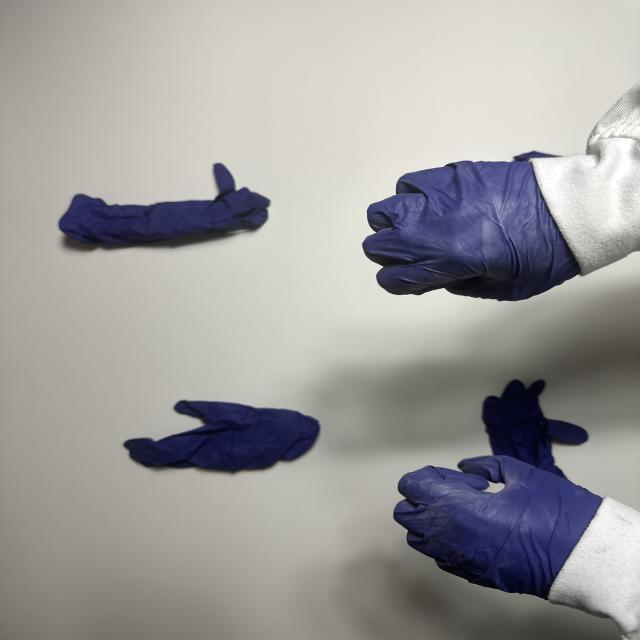gloves_contaminated: (362, 161, 580, 301), (394, 456, 602, 598)
